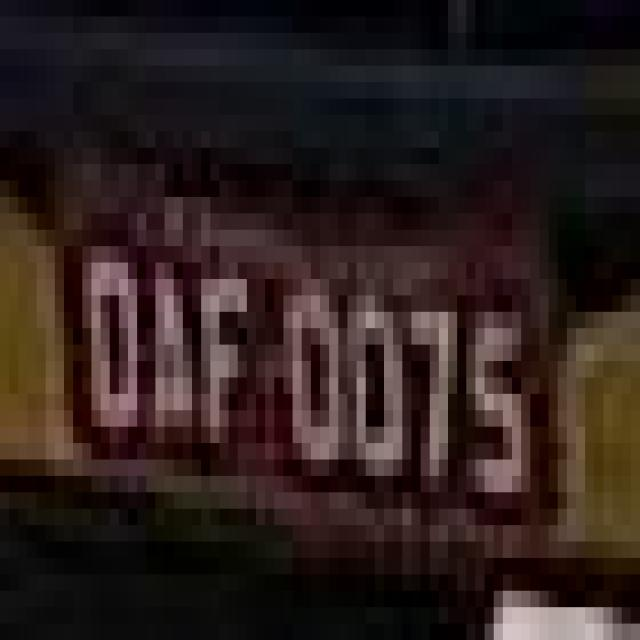0: (289, 259, 343, 491), (350, 279, 403, 497)
7: (460, 290, 541, 517), (408, 266, 462, 510)
A: (151, 218, 194, 463)
D: (71, 226, 141, 449)
F: (200, 243, 252, 469)
